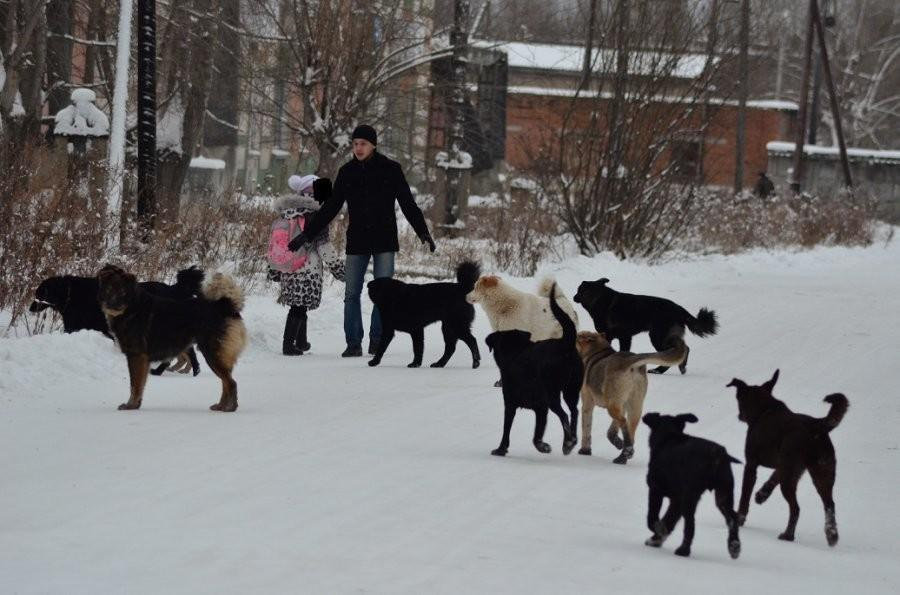normal_dogs: (95, 267, 253, 420), (730, 371, 858, 546), (630, 405, 758, 565), (477, 288, 590, 463), (577, 258, 725, 378), (570, 326, 688, 467), (359, 257, 489, 375), (463, 271, 581, 347)
